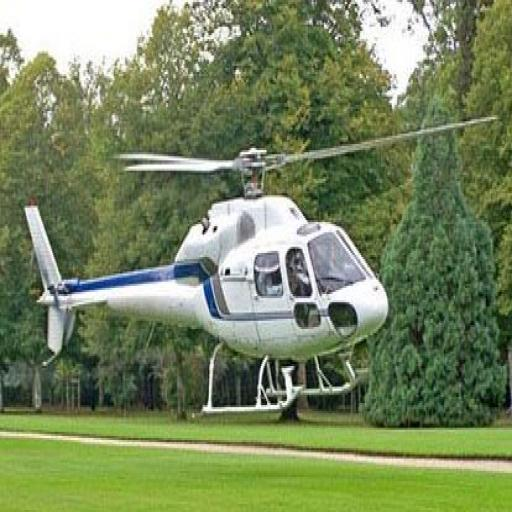helicopter: (22, 110, 499, 425)
